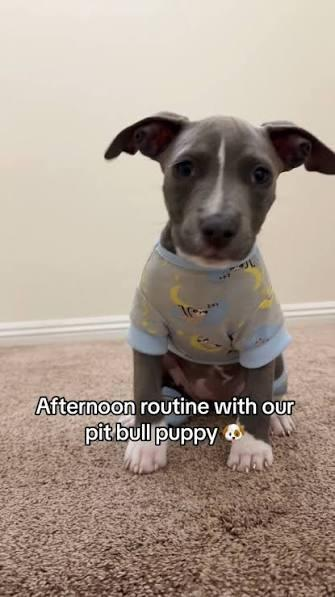puppy-dog: (105, 112, 335, 475)
